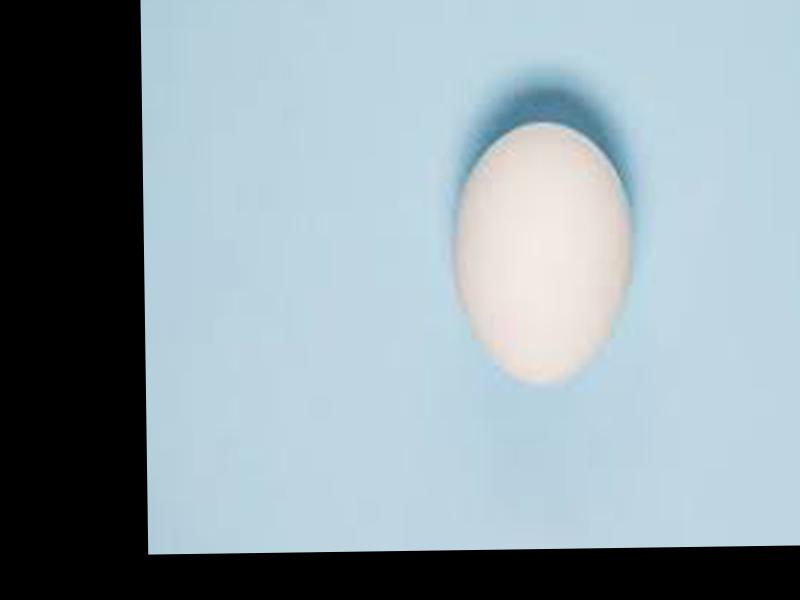Eggs: (451, 121, 632, 389)
